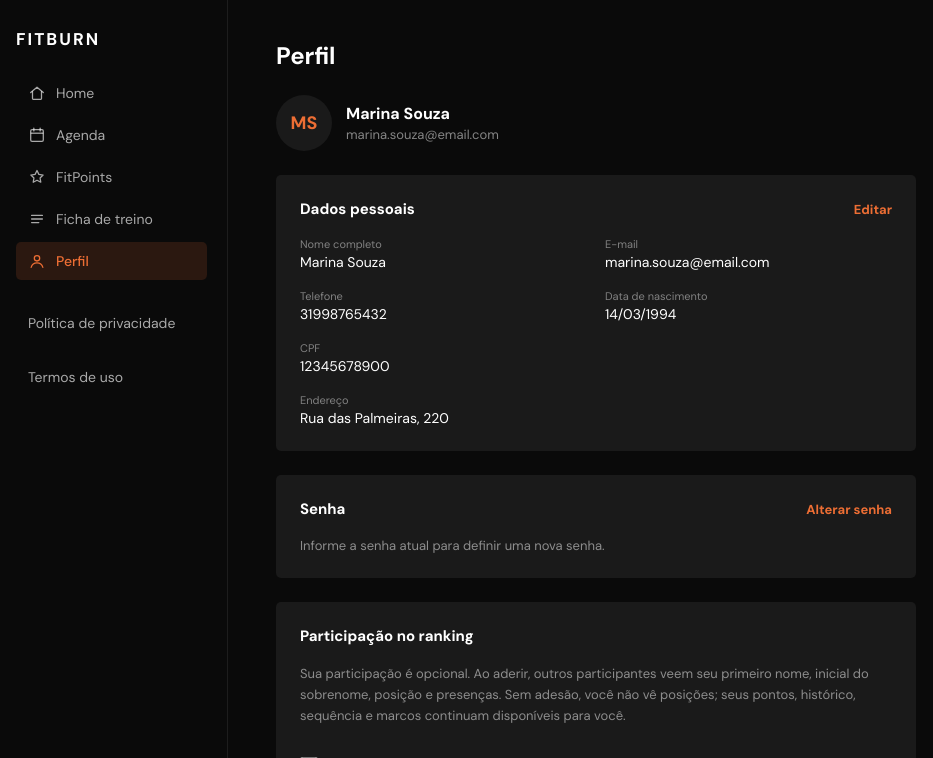
Perfil / Minha conta › cliente › edita os dados, salva e volta ao modo de visualização com os novos valores
Step 1. Click the button "Editar" → (873, 209), box [854,200,892,218]
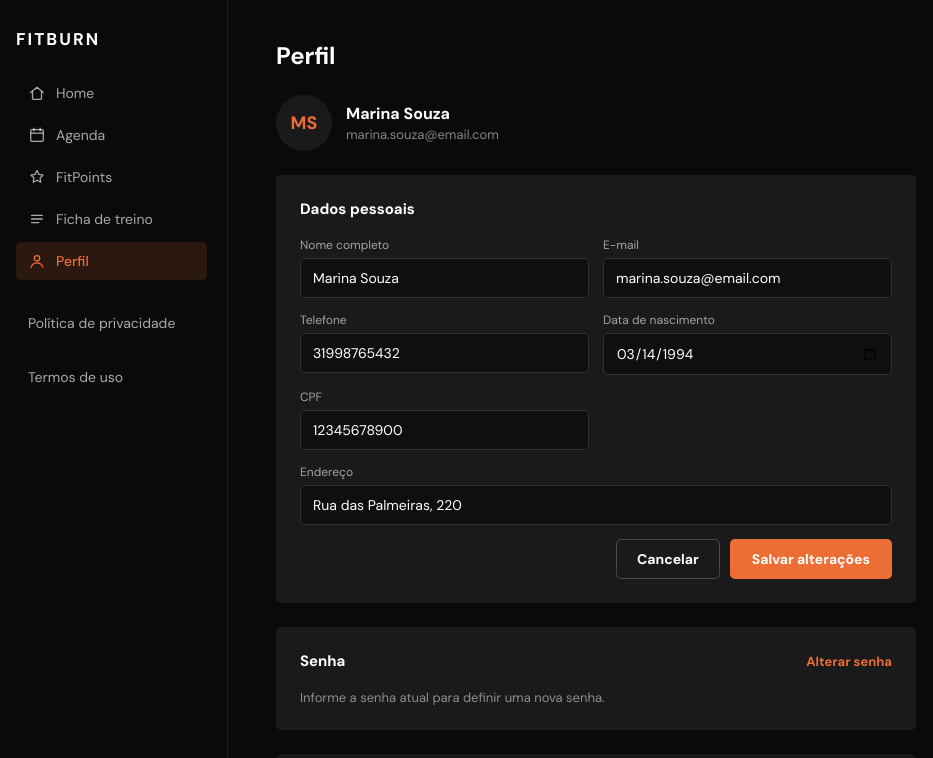
Check: the field labelled "Nome completo" holds "Marina Souza"
Check: the date field labelled "Data de nascimento" holds "1994-03-14", box [603,333,892,375]
Step 2. Replace the text in the field labelled "Nome completo" with "Marina S. Andrade" → (444, 278), box [300,258,589,298]
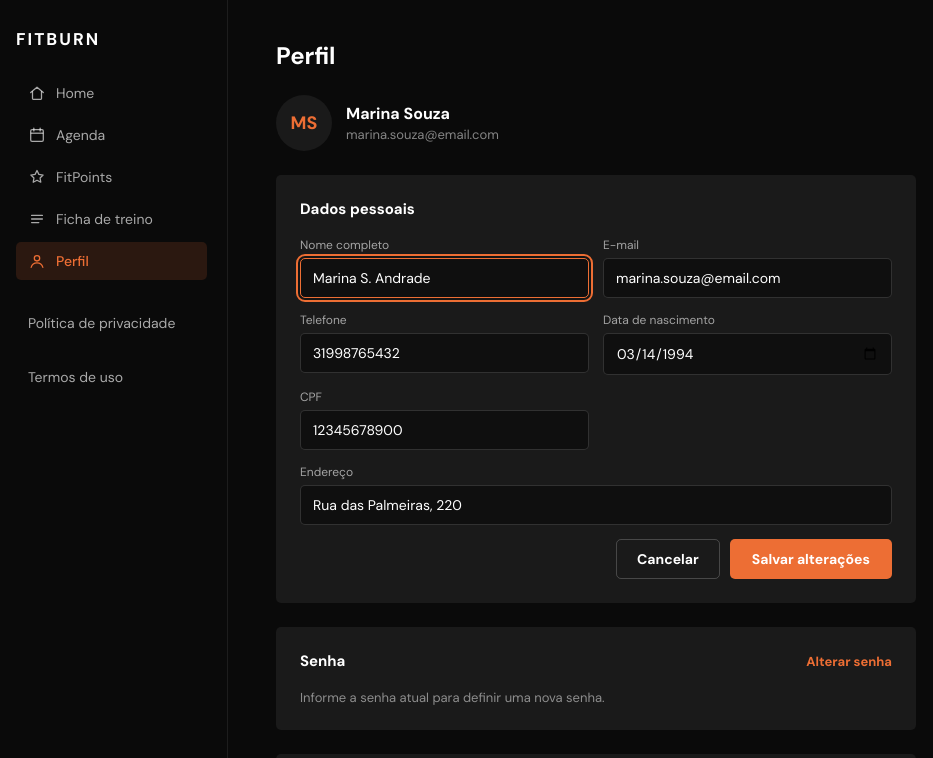
Step 3. Replace the text in the field labelled "Telefone" with "31911112222" → (444, 353), box [300,333,589,373]
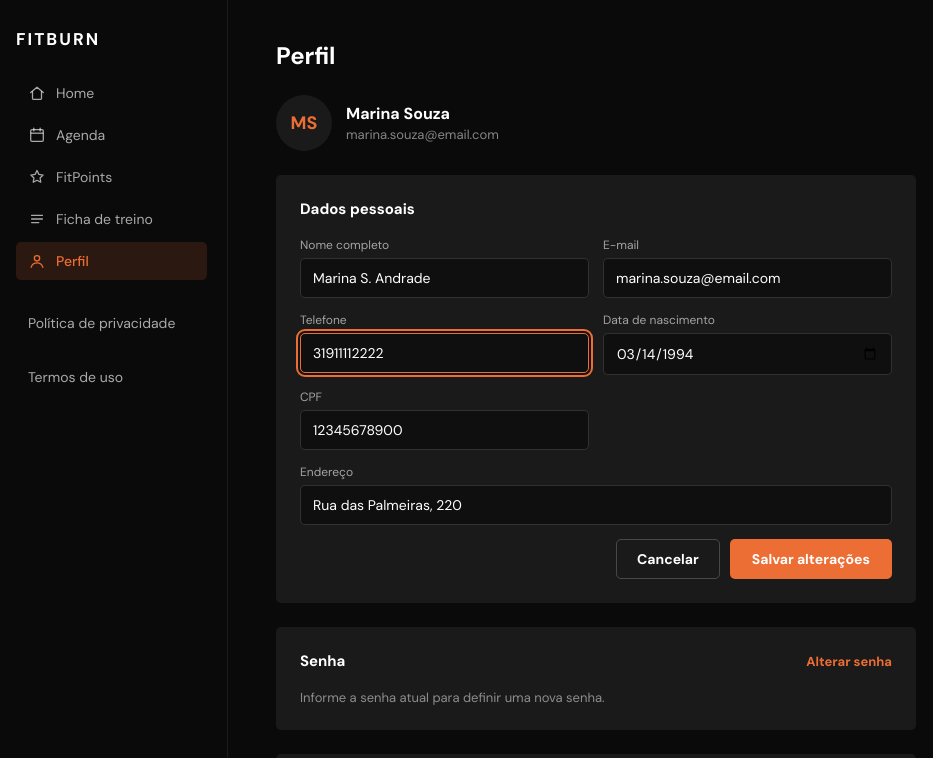
Step 4. Click the button "Salvar alterações" → (811, 559), box [730,539,892,579]
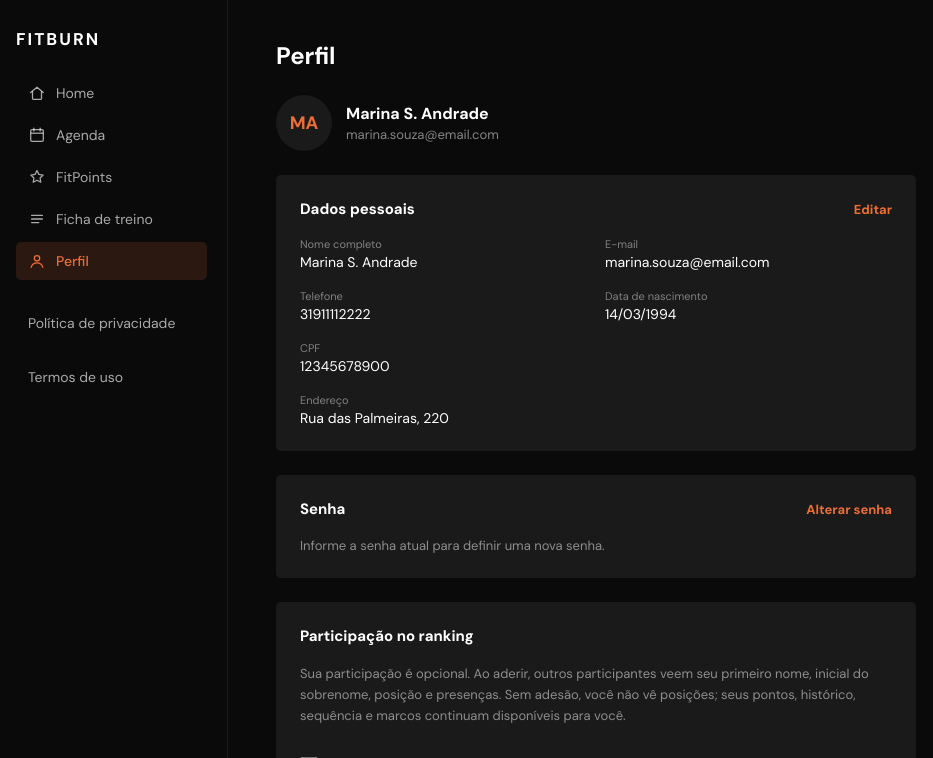
Check: the text "Marina S. Andrade" below "Nome completo" is shown, box [300,253,418,271]
Check: the text "31911112222" is shown, box [300,305,371,323]
